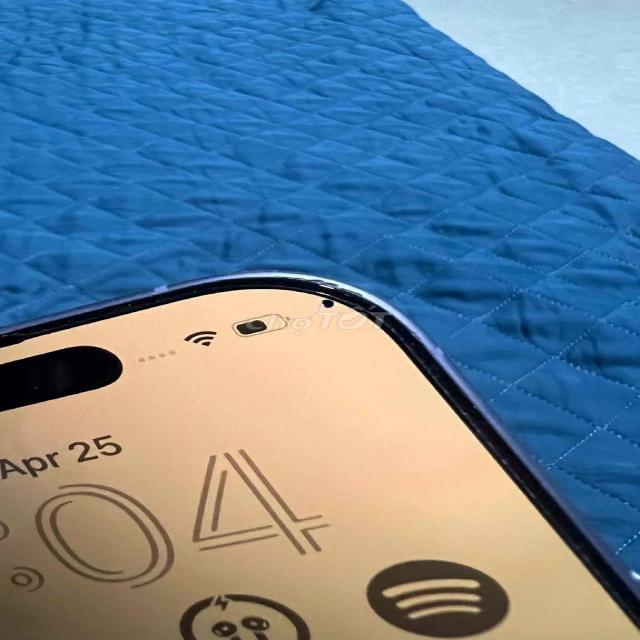screen_defect: (267, 269, 377, 335)
